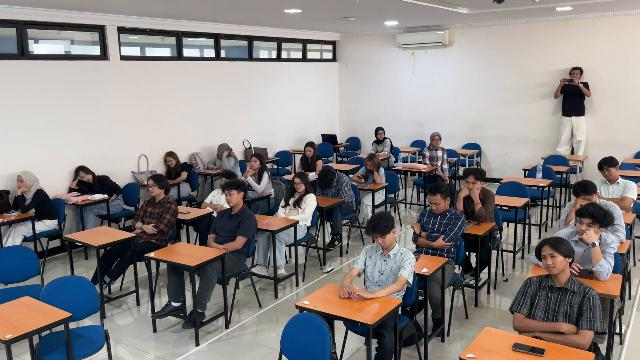bosan: (576, 217, 596, 239), (428, 196, 443, 214), (576, 192, 596, 204), (373, 234, 390, 248), (224, 190, 238, 206), (464, 178, 479, 191), (601, 167, 615, 179), (147, 181, 158, 196), (79, 170, 92, 182), (294, 179, 305, 192), (17, 175, 25, 189), (250, 157, 259, 169), (167, 157, 175, 167), (305, 147, 313, 157), (366, 161, 372, 170)
